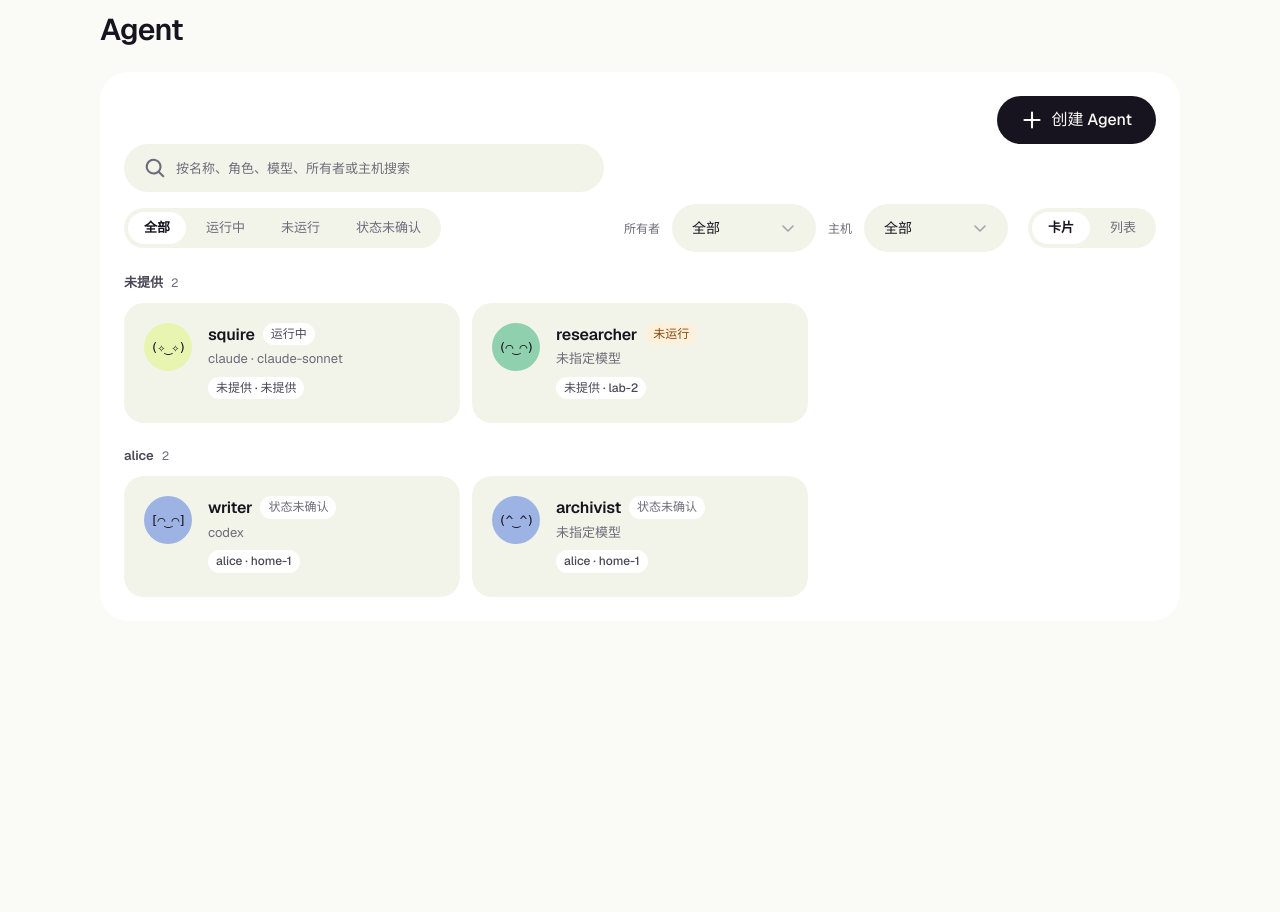
shared agent page source boundaries › keeps create enabled when the catalog refuses it and notifies on use without a request
The image size is (1280, 912).
Click the button "创建 Agent" at [1077, 120], box [997,96,1156,144]
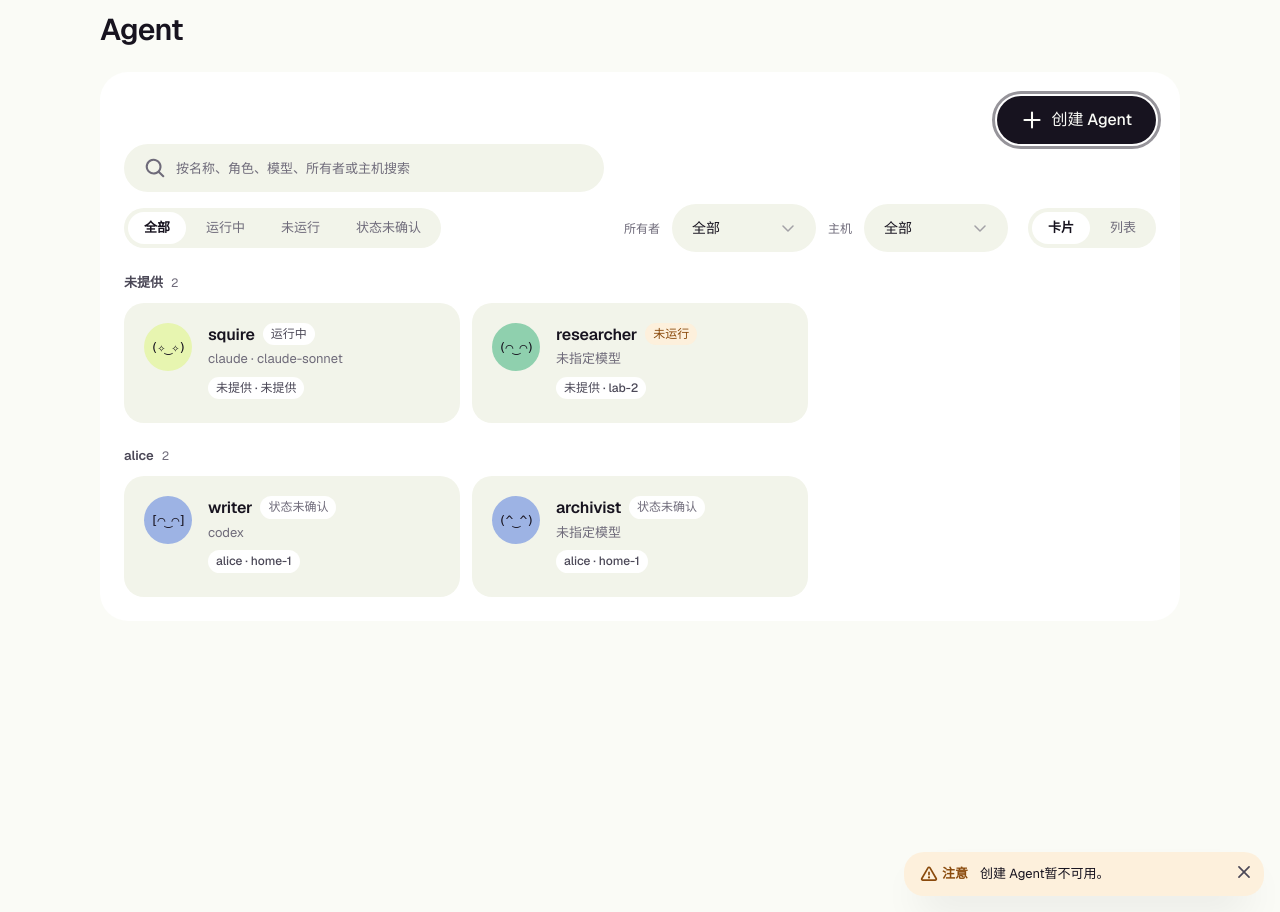
Expected: the number of elements with class "toast-warning" is 1, [904,852,1264,896]
Expected: the text with class "toast-text" reads "创建 Agent暂不可用。", [980,865,1110,882]
Expected: the button named "关闭提示" is shown, [1232,860,1256,884]
